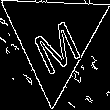M_NW: (25, 5, 82, 71)
